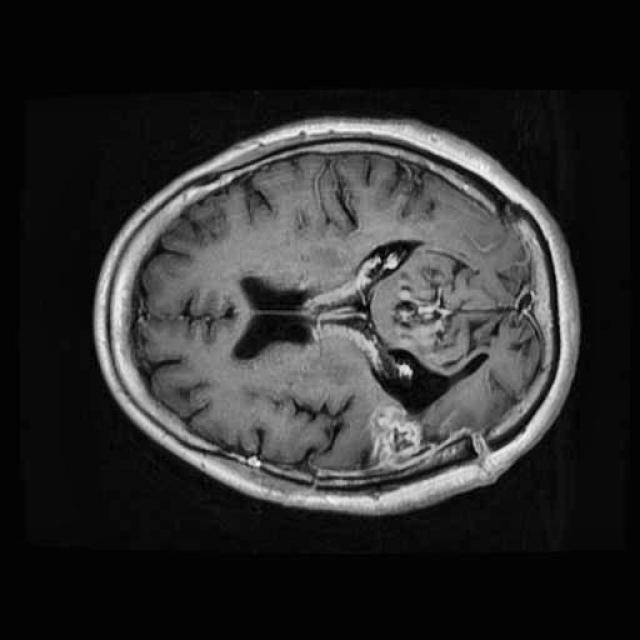Non-Tumor: (355, 394, 454, 480)
